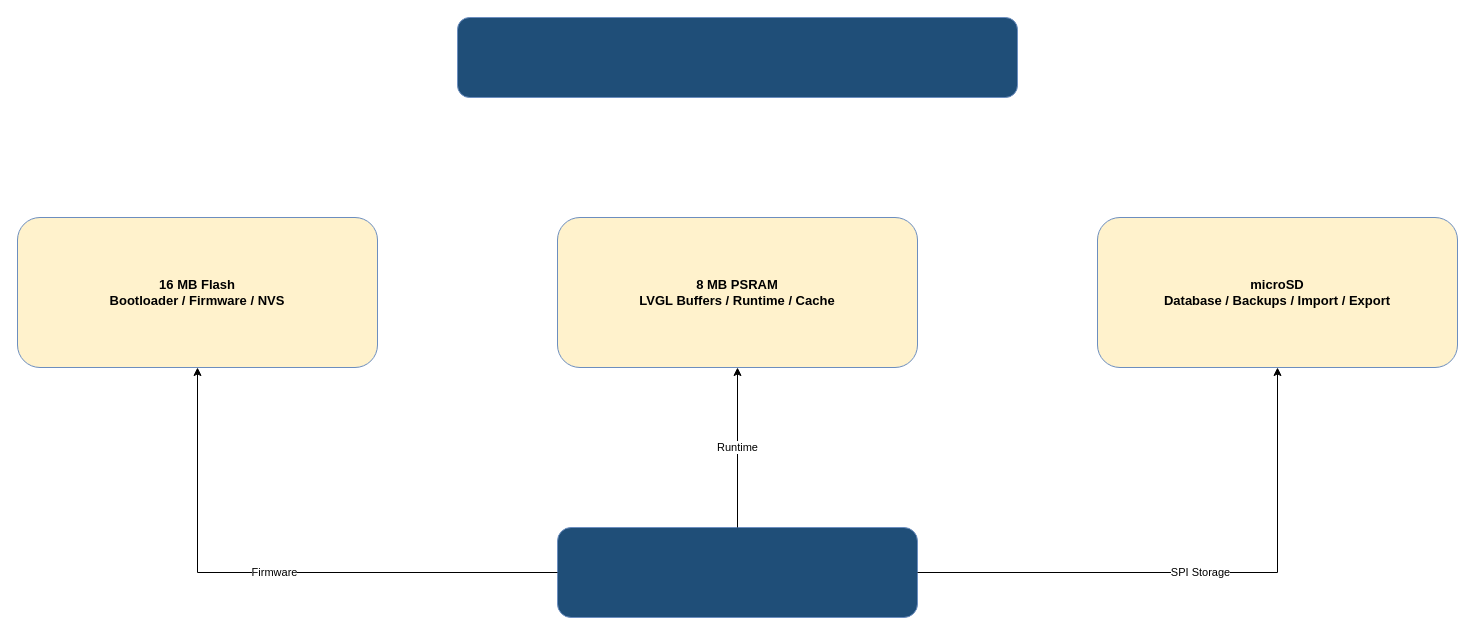
The diagram is 1475 pixels wide and 635 high, and some of its shapes have lost their labels. Each missing label, with the centre of its shape:
ESP32-S3R8: (737,572)
KeyKeeper2 Storage Architecture: (737,57)
